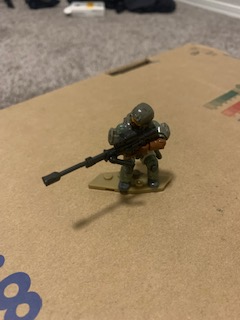soldier: (41, 101, 172, 198)
